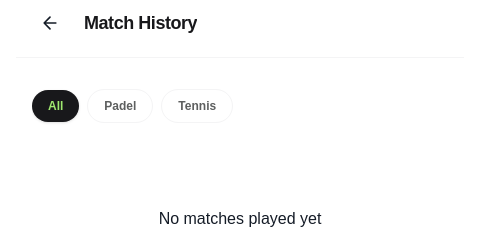
Scenario: MatchHistoryClient › T19-AC5: renders sport-specific empty state when filter has no results
Expected: the text "No matches played yet" is shown, [159, 207, 321, 231]
Click the button "Tennis": (197, 106) [161, 89, 233, 123]
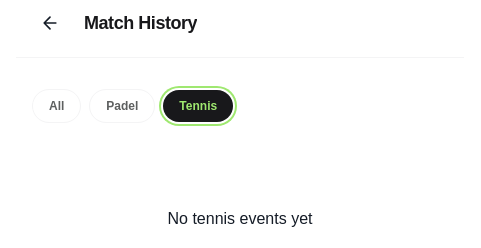
Expected: the text "No tennis events yet" is shown, [168, 207, 312, 231]
Click the button "Padel": (122, 106) [89, 89, 155, 123]
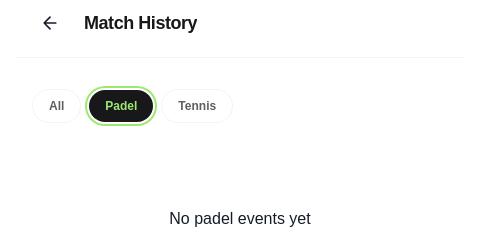
Expected: the text "No padel events yet" is shown, [169, 207, 311, 231]
